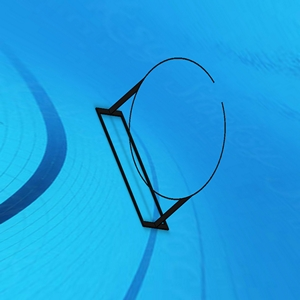circle: (92, 55, 234, 234)
